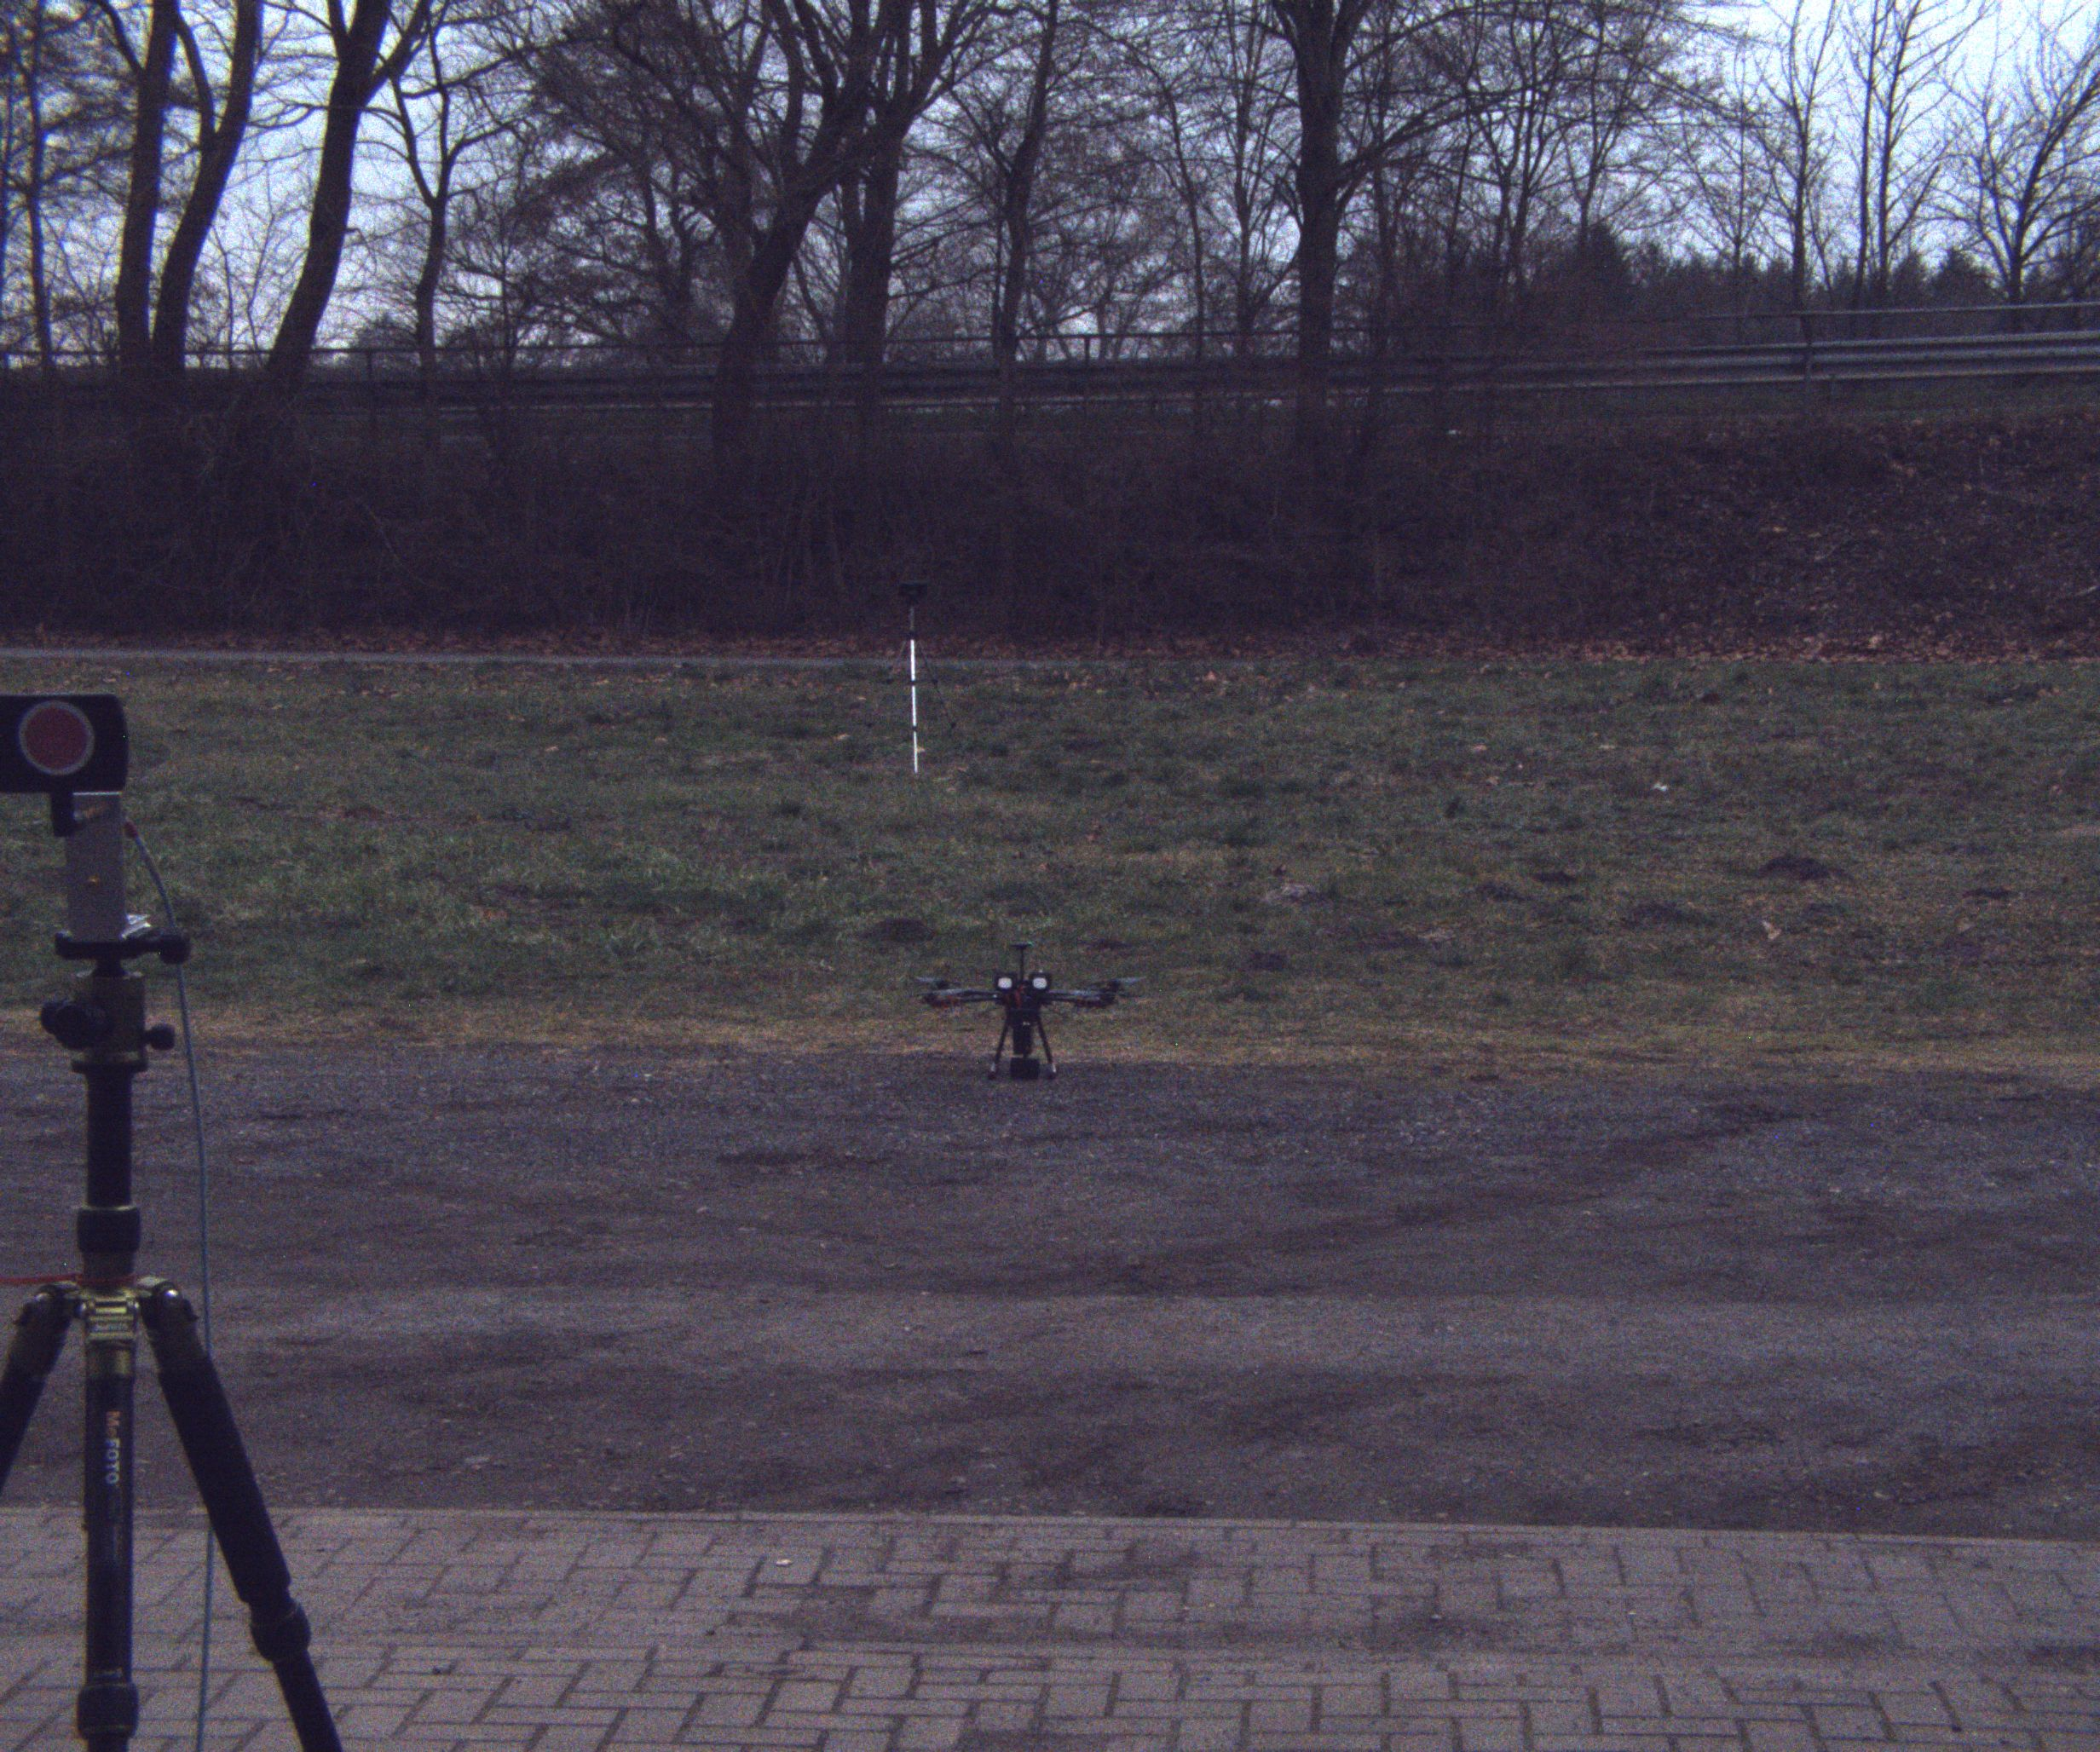Drohne: (905, 908, 1170, 1135)
